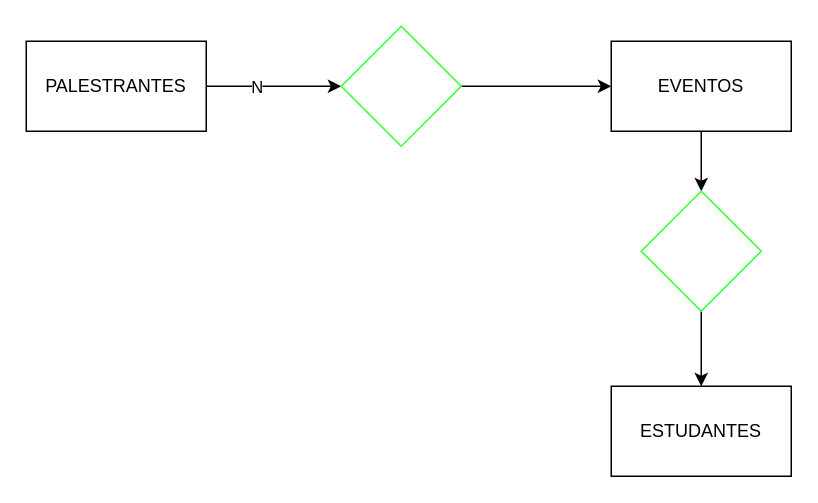
Some shapes in this 818 by 503 pixel diagram are drawn without their labels. The centre of each missing label's shape, as x and y in pixels:
"inscrição" goes at [700,250].
"Ministra" goes at [400,85].
